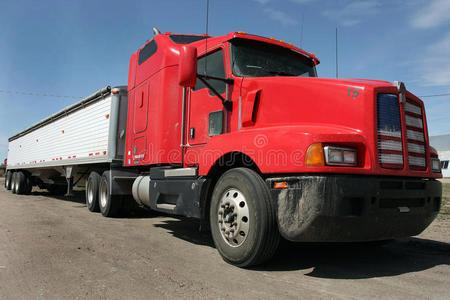卡车: (8, 22, 446, 269)
